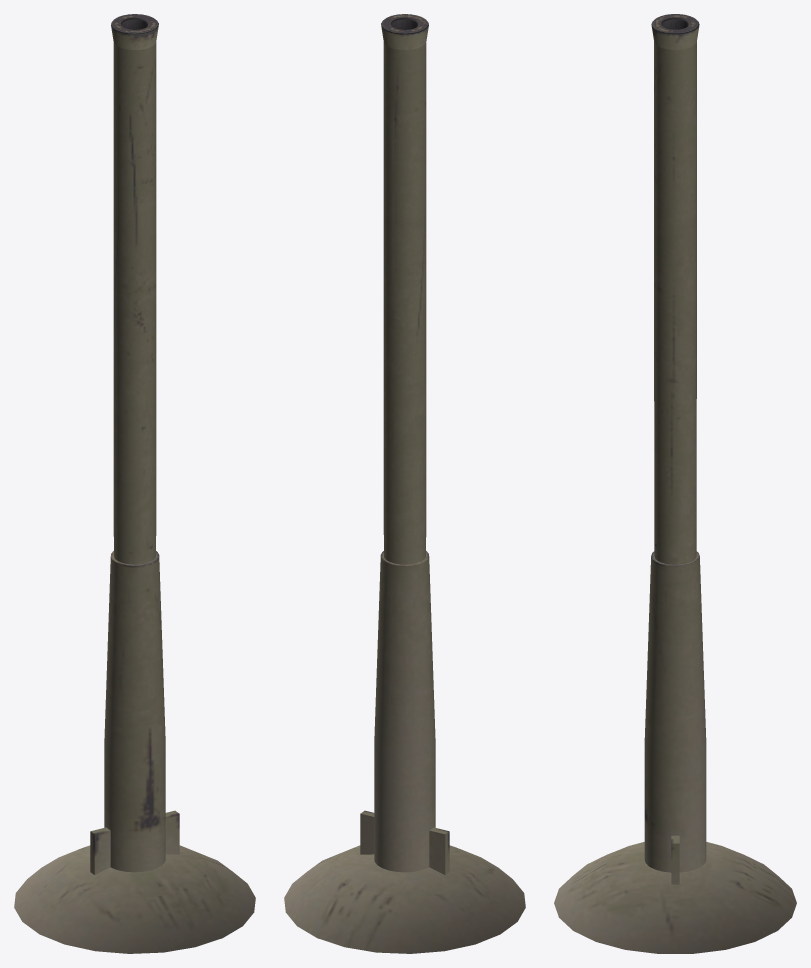
File: Gun_02.glb
3 views of the same model, side by side, from view 1: azimuth 30°, elevation 25°; view 2: azimuth 150°, elevation 25°; view 3: azimuth 270°, elevation 25° (orthographic).
Parts seen in each view (by area): view 1: set_0_group_0; view 2: set_0_group_0; view 3: set_0_group_0.
Part boxes in pixels (x1,y1,x2,y2): set_0_group_0: [14, 14, 255, 953]; set_0_group_0: [284, 14, 525, 953]; set_0_group_0: [554, 14, 796, 953].
Bounding box in the file's own units: 0.8566 × 3.46 × 0.8654.
1 material, 1 textured.
